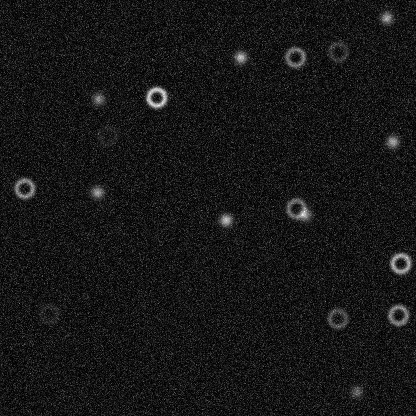Ring: (12, 176, 36, 200), (326, 39, 350, 63), (386, 302, 410, 326), (283, 45, 307, 69), (388, 251, 412, 275), (325, 306, 349, 330), (36, 301, 60, 325), (284, 196, 308, 220), (95, 123, 119, 147), (144, 85, 168, 109)
Spot: (378, 9, 394, 25), (89, 184, 105, 200), (348, 383, 364, 399), (296, 206, 312, 222), (90, 91, 106, 107), (217, 211, 233, 227), (384, 133, 400, 149), (232, 49, 248, 65)
